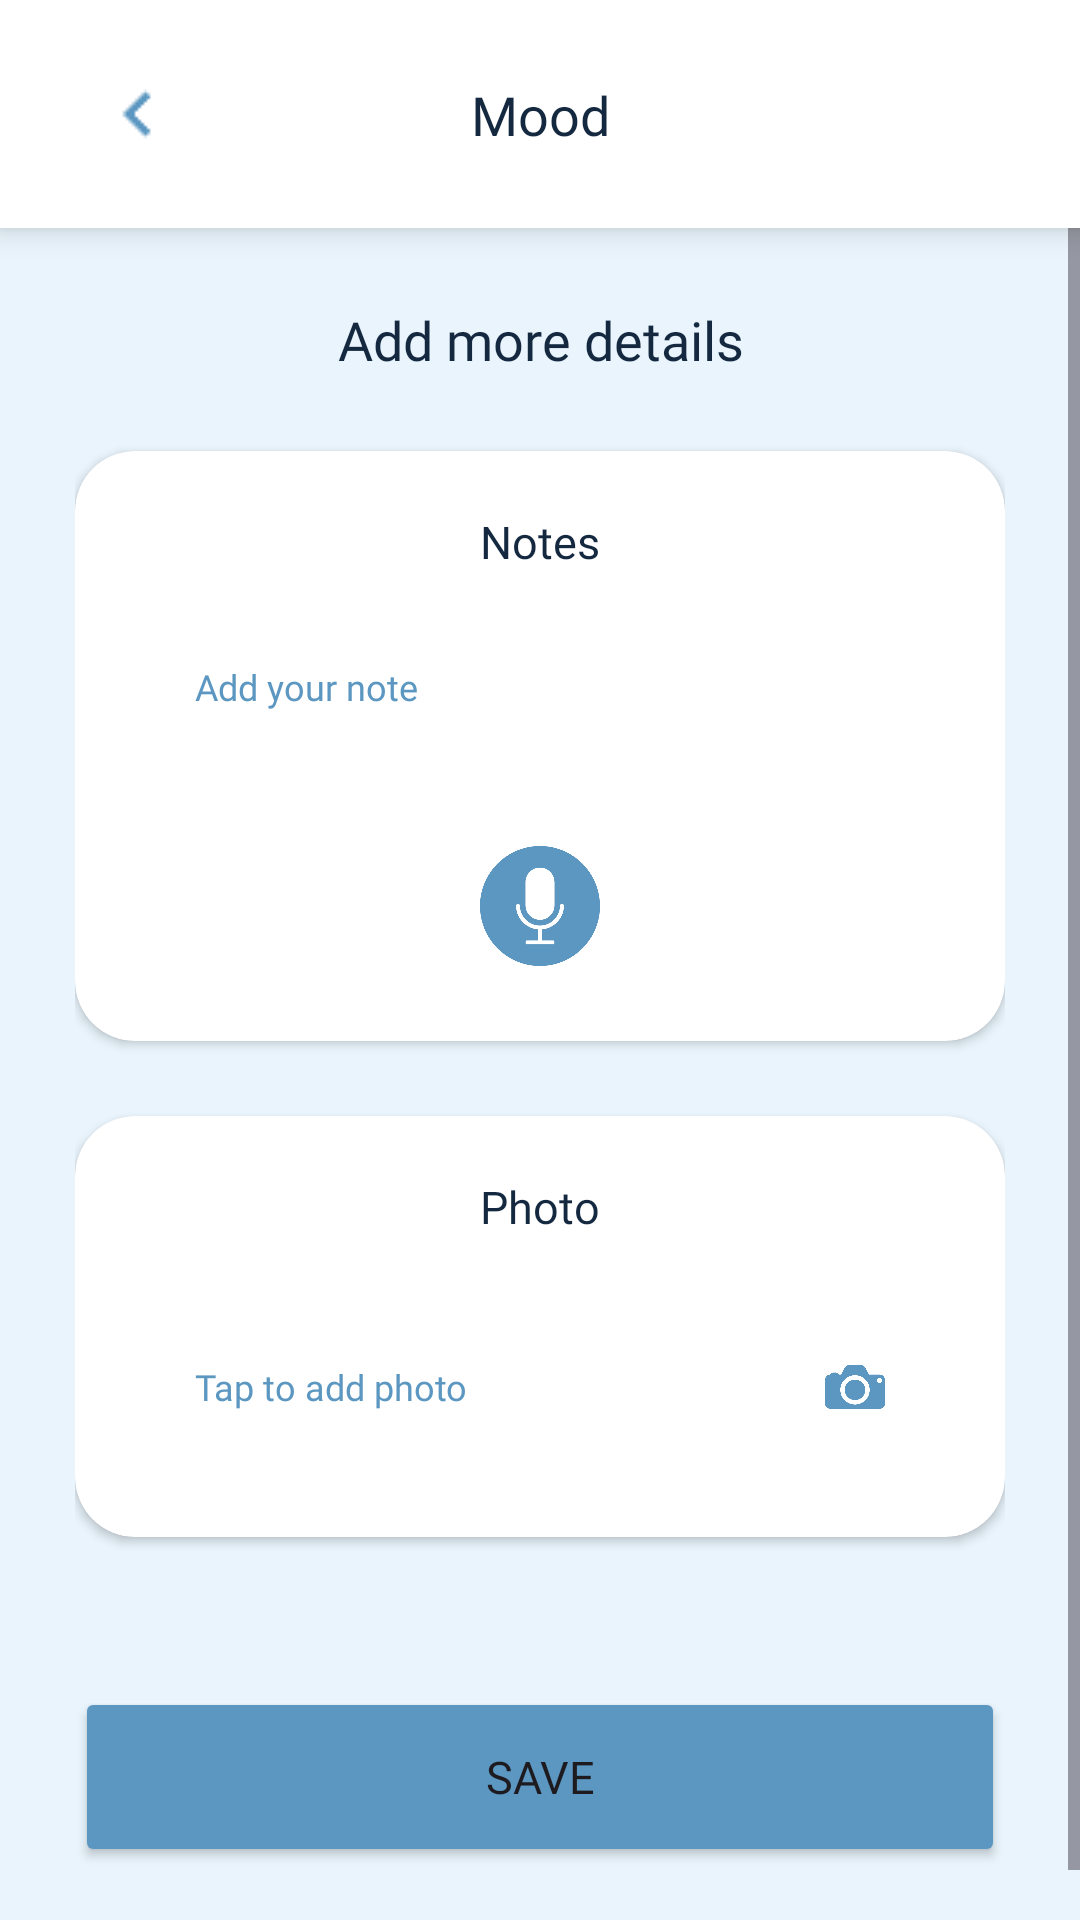

Icons on this 1080 × 1920 Android screen, each with the point to tap as (x,y):
Back: (136,114)
camera: (855,1387)
Start voice input: (540,906)
